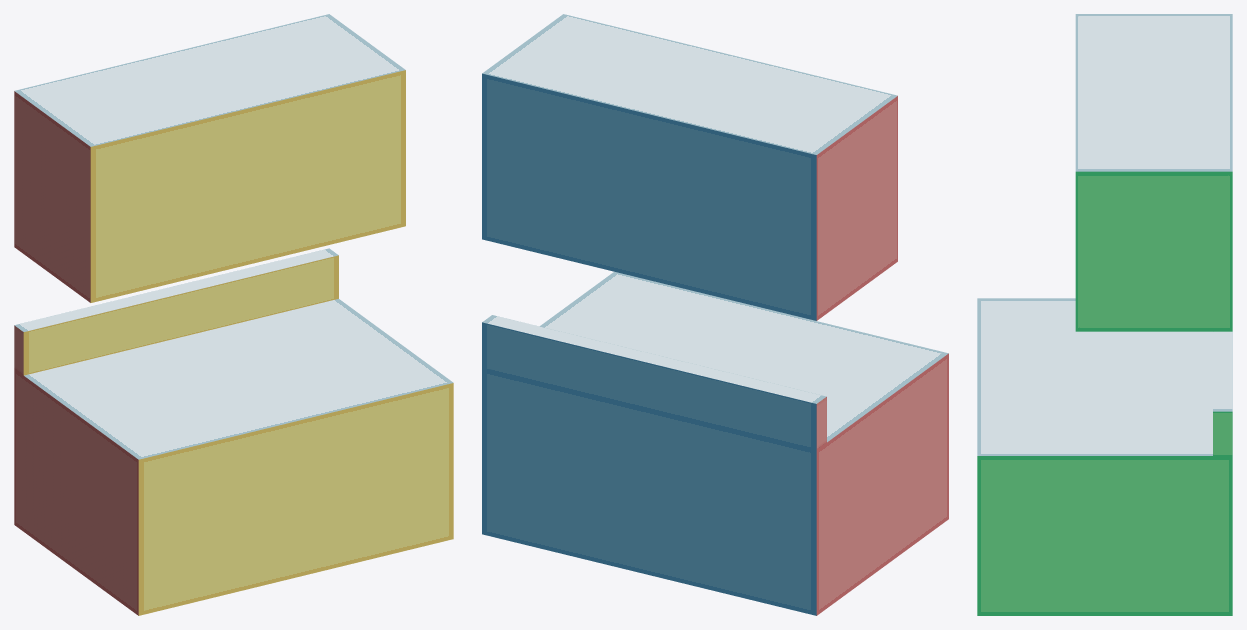
Rendered from counter-SJJNWSJO.gltf.
3 views of the same model, side by side, from view 1: azimuth 30°, elevation 25°; view 2: azimuth 150°, elevation 25°; view 3: azimuth 270°, elevation 25° (orthographic). The views are drawn at different scales.
Parts seen in each view (by area): view 1: cube (×3); view 2: cube (×3); view 3: cube (×3).
Boxes of the visible parts, box(x1,y1,x2,y2) form: cube (×3): box(14, 14, 453, 615); cube (×3): box(482, 14, 948, 615); cube (×3): box(977, 14, 1232, 615).
Size of the model in its own units: 1.19 by 1.56 by 0.8125.
Materials: 1 (1 with a texture image).
